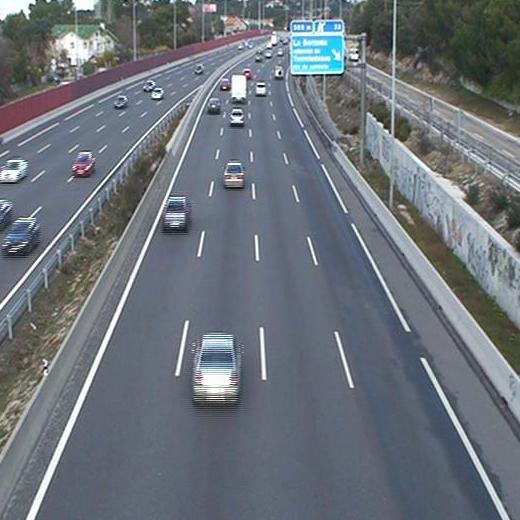car: (194, 335, 238, 403), (163, 198, 188, 230), (223, 162, 245, 189), (229, 108, 244, 124), (208, 98, 221, 113), (255, 82, 267, 96), (219, 77, 229, 91), (274, 66, 284, 80)
small-truck: (231, 74, 247, 103)
